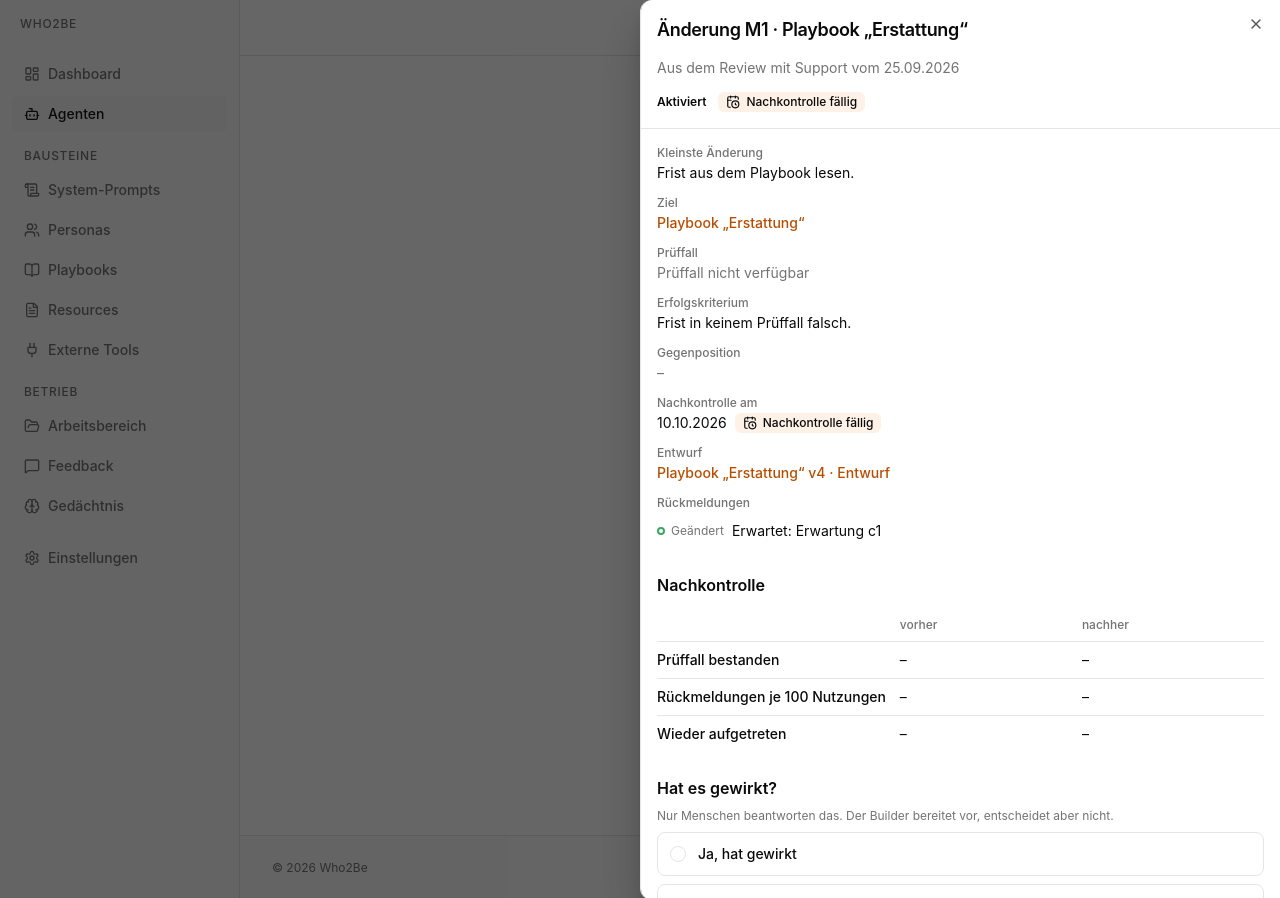
Test case: ChangeActions: Hat es gewirkt? › Folgen-Satz: Singular und ohne Zusatz, wenn alle Rückmeldungen geändert sind
This screenshot has width=1280, height=898.
Click the radio button named "Ja, hat gewirkt" next to "Ja, hat gewirkt".
click(678, 854)  # box [670,846,686,862]
(page scrolled)
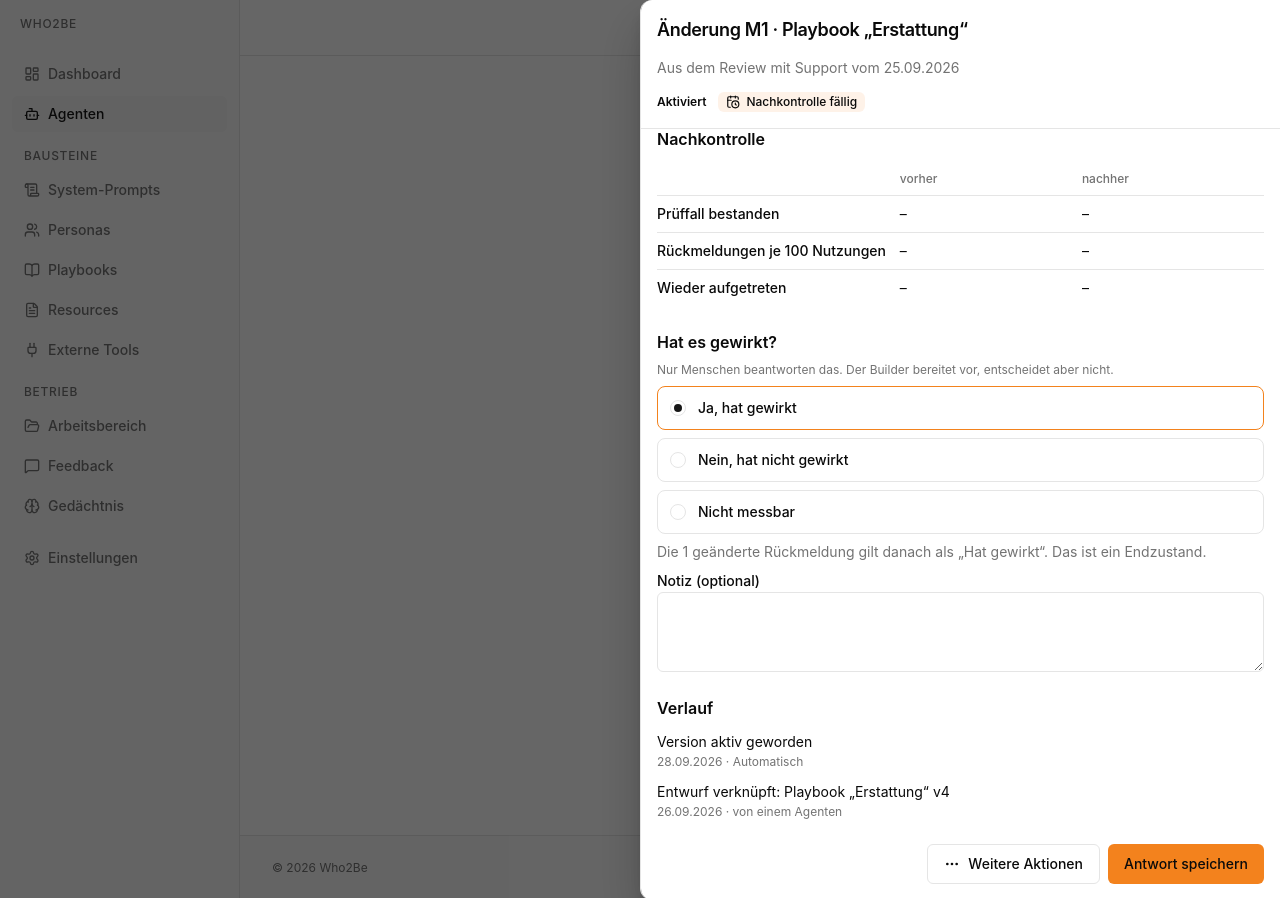
Check: the text with test id "change-review-effect" does not show "weitere", box [657,542,1264,562]
Check: the text with test id "change-review-effect" shows "Die 1 geänderte Rückmeldung gilt danach als „Hat gewirkt“. Das ist ein Endzustand.", box [657,543,1206,560]
